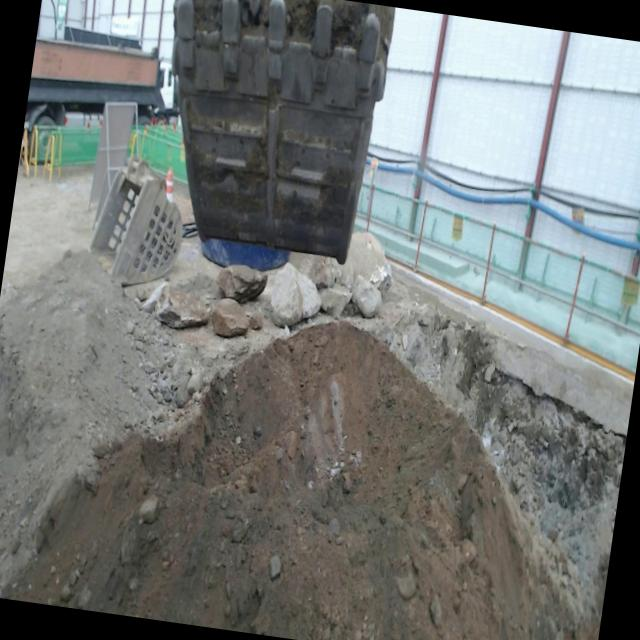cement: (392, 263, 634, 436)
red-sand: (0, 252, 601, 640)
rocks: (127, 311, 260, 407)
stone: (332, 232, 393, 317), (266, 262, 321, 326), (305, 259, 352, 315), (158, 284, 213, 329), (218, 265, 268, 303), (210, 298, 251, 337)
